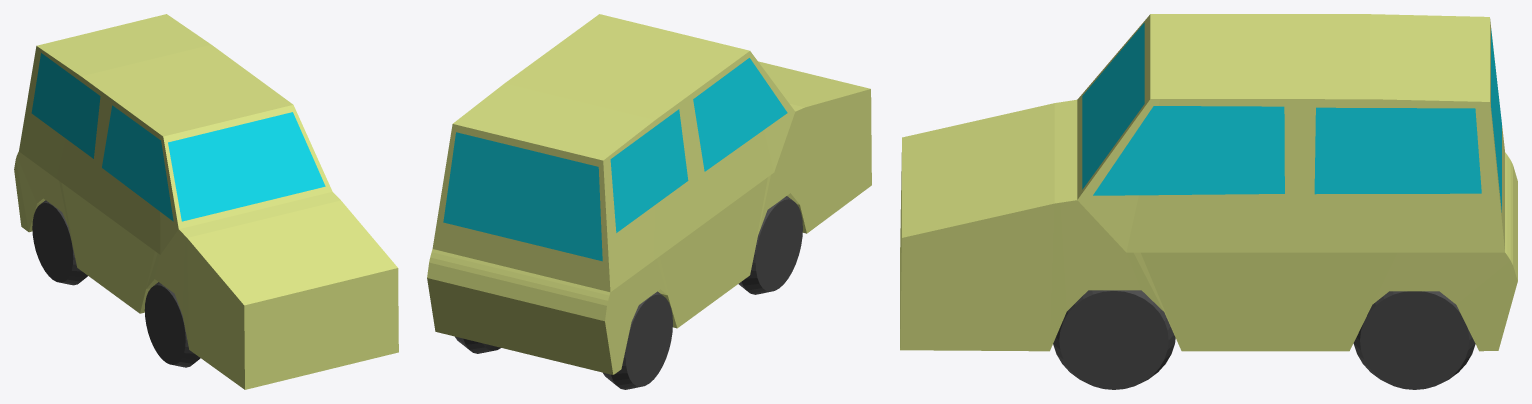
Rendered from YellowVan.fbx.
The picture shows the model from 3 angles, left to right: view 1: azimuth 30°, elevation 25°; view 2: azimuth 150°, elevation 25°; view 3: azimuth 270°, elevation 25°; orthographic projection. The views are drawn at different scales.
Visible parts, largest first — view 1: Cube, Plane, Plane.003, Plane.005, Cylinder, Cylinder.001; view 2: Cube, Plane.001, Plane.003, Plane.005, Cylinder.001, Cylinder; view 3: Cube, Plane.002, Plane.004, Cylinder, Cylinder.001, Plane, Plane.001.
Part boxes in pixels (x1=…): Cube: x1=14, y1=14, x2=398, y2=389; Plane: x1=168, y1=112, x2=325, y2=221; Plane.003: x1=102, y1=105, x2=173, y2=221; Plane.005: x1=31, y1=53, x2=100, y2=158; Cylinder: x1=144, y1=282, x2=200, y2=367; Cylinder.001: x1=32, y1=200, x2=87, y2=285; Cube: x1=427, y1=14, x2=871, y2=374; Plane.001: x1=443, y1=132, x2=602, y2=261; Plane.003: x1=693, y1=58, x2=787, y2=171; Plane.005: x1=610, y1=109, x2=688, y2=232; Cylinder.001: x1=455, y1=291, x2=672, y2=389; Cylinder: x1=738, y1=196, x2=802, y2=294; Cube: x1=900, y1=14, x2=1517, y2=351; Plane.002: x1=1093, y1=106, x2=1284, y2=195; Plane.004: x1=1314, y1=107, x2=1481, y2=194; Cylinder: x1=1053, y1=290, x2=1175, y2=389; Cylinder.001: x1=1353, y1=291, x2=1475, y2=389; Plane: x1=1082, y1=23, x2=1144, y2=189; Plane.001: x1=1491, y1=29, x2=1501, y2=212.
Bounding box in the file's own units: 7057 × 9532 × 18311.
